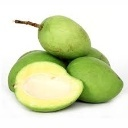mango: (38, 15, 92, 56)
